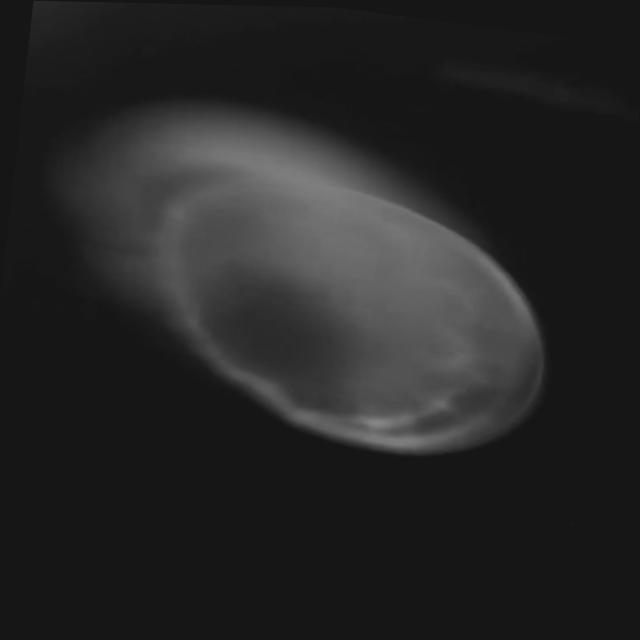Moon-jellyfish: (34, 93, 560, 463)
